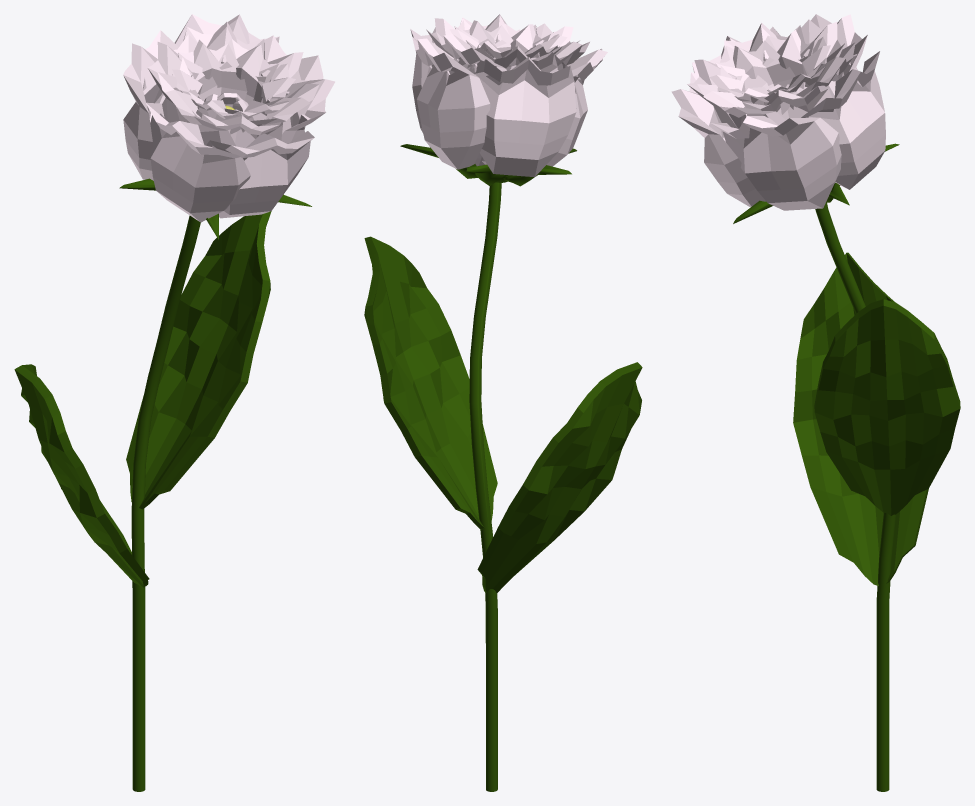
The model's file is Affection_lisian_low.glb.
3 renders of one model, left to right at view 1: azimuth 30°, elevation 25°; view 2: azimuth 150°, elevation 25°; view 3: azimuth 270°, elevation 25°, orthographic. The views are drawn at different scales.
Visible parts, largest first — view 1: Cube.006, Cube.002, Cylinder, Cube.003, Cube.005, Cube.004, Sphere.001; view 2: Cube.006, Cube.002, Cube.005, Cylinder, Cube.003, Cube.004, Sphere.001; view 3: Cube.006, Cube.002, Cube.005, Cube.003, Cube.004, Cylinder, Sphere.001.
Boxes of the visible parts, x1,y1,x2,y2 form: Cube.006: (126,211,271,509); Cube.002: (123,14,334,222); Cylinder: (131,215,200,791); Cube.003: (147,22,319,148); Cube.005: (14,364,149,587); Cube.004: (172,39,295,134); Sphere.001: (119,178,311,239); Cube.006: (364,236,497,529); Cube.002: (410,27,607,177); Cube.005: (477,362,642,592); Cylinder: (469,182,501,791); Cube.003: (426,14,589,73); Cube.004: (449,20,567,69); Sphere.001: (400,144,576,186); Cube.006: (814,299,960,515); Cube.002: (671,14,885,210); Cube.005: (793,252,928,585); Cube.003: (687,19,855,132); Cube.004: (709,30,830,114); Cylinder: (815,202,896,791); Sphere.001: (733,143,899,223).
Size of the model in its own units: 8.42 by 22.32 by 7.64.
Materials: 3 (1 with a texture image).
